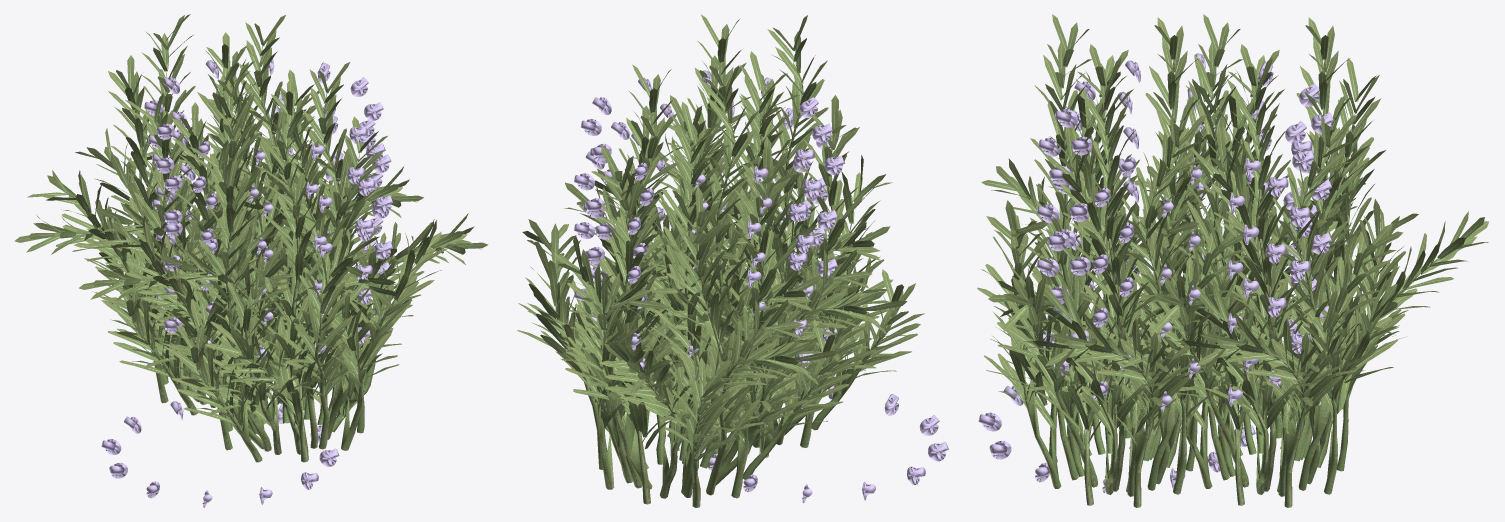
The model's file is thy.glb.
The picture shows the model from 3 angles, left to right: view 1: azimuth 30°, elevation 25°; view 2: azimuth 150°, elevation 25°; view 3: azimuth 270°, elevation 25°; orthographic projection. The views are drawn at different scales.
Parts seen in each view (by area): view 1: C-Alecrim; view 2: C-Alecrim; view 3: C-Alecrim.
Boxes of the visible parts, bbox=[...] form: C-Alecrim: bbox=[14, 14, 488, 462]; C-Alecrim: bbox=[517, 14, 924, 507]; C-Alecrim: bbox=[977, 14, 1488, 507].
Bounding box in the file's own units: 0.4548 × 0.4781 × 0.4971.
Materials: 3 (1 with a texture image).
